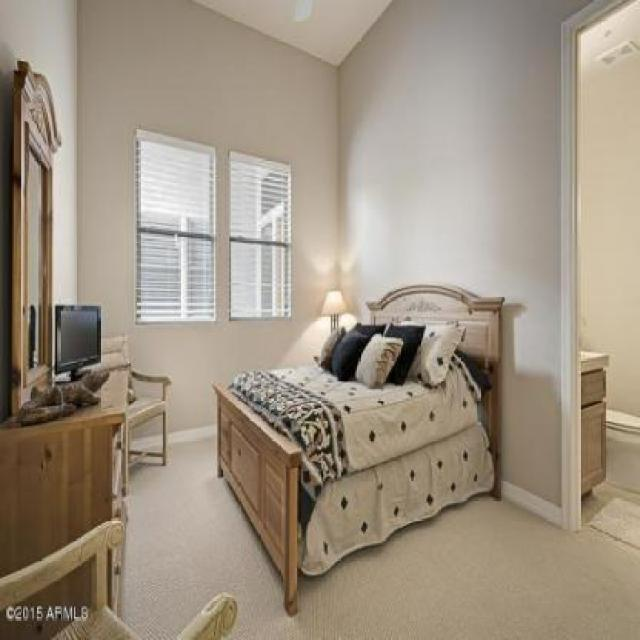Floor: (121, 436, 639, 638)
